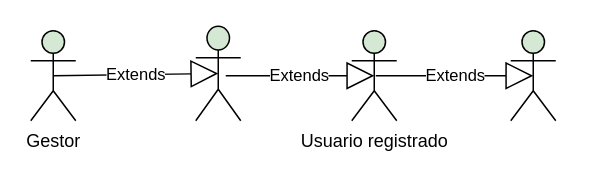
Image size: 590x179. Some labels were removed from this diagram. The centre of each missing label's shape, as x and y in pixels:
"Cliente" goes at point (217, 73).
"Usuario" goes at point (532, 75).
